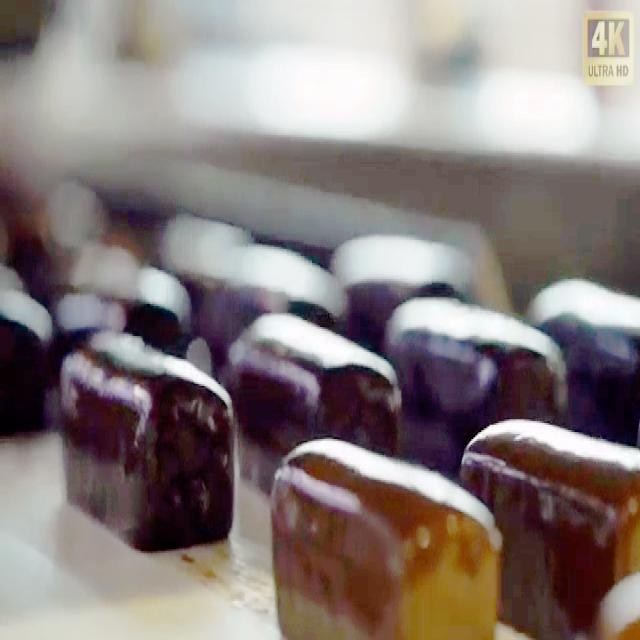Choco: (268, 432, 502, 635), (57, 324, 238, 551), (459, 412, 638, 634), (226, 306, 402, 452), (387, 292, 558, 436), (534, 266, 640, 440)
